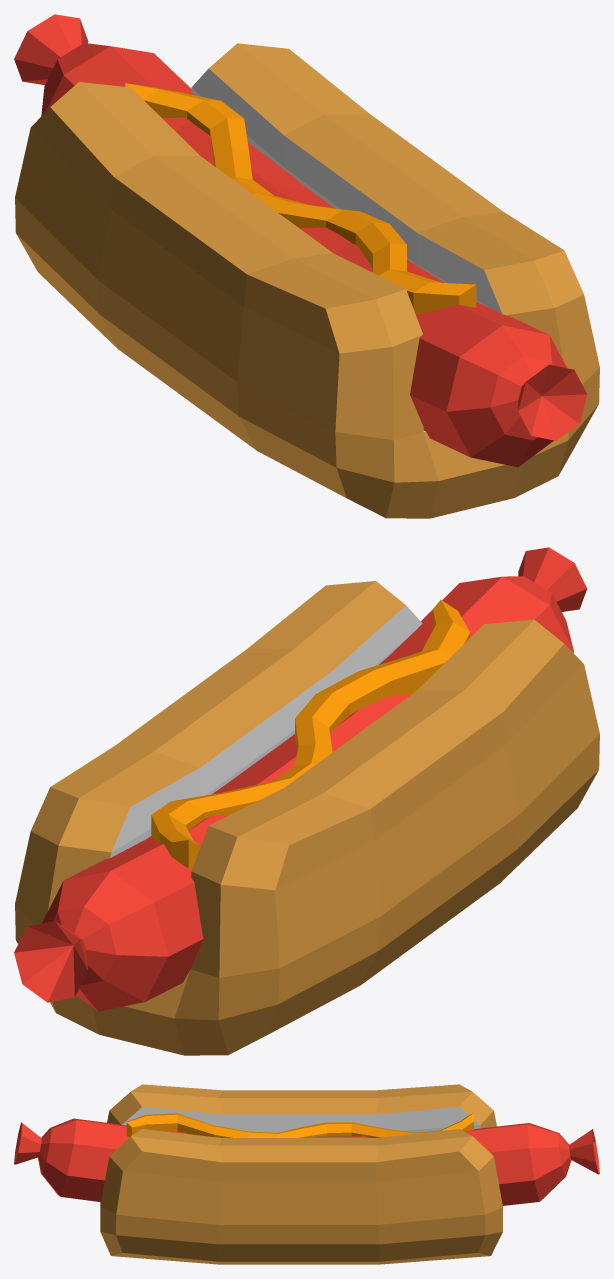
Rendered from Hot dog.glb.
3 views of the same model, one above another, from view 1: azimuth 30°, elevation 25°; view 2: azimuth 150°, elevation 25°; view 3: azimuth 270°, elevation 25° (orthographic). The views are drawn at different scales.
Visible parts, largest first — view 1: Cube.025_Cube.026; view 2: Cube.025_Cube.026; view 3: Cube.025_Cube.026.
Part boxes in pixels (left/top/right/bottom): Cube.025_Cube.026: left=14, top=14, right=599, bottom=518; Cube.025_Cube.026: left=14, top=547, right=599, bottom=1055; Cube.025_Cube.026: left=14, top=1084, right=599, bottom=1264.
Size of the model in its own units: 12.08 by 9.37 by 37.64.
